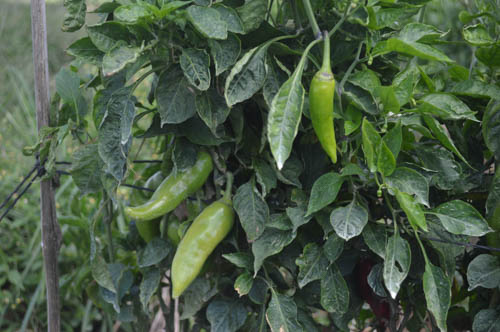ChiliPepper: (167, 202, 239, 291), (121, 154, 219, 217), (307, 74, 339, 162)
